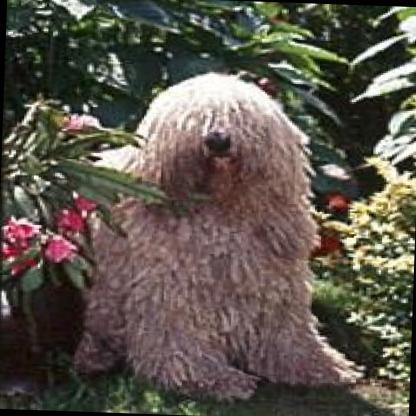komondor: (64, 64, 376, 402)
